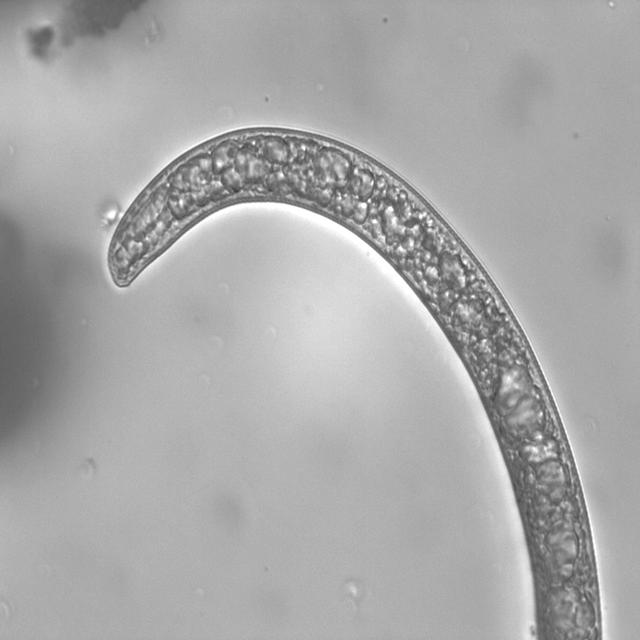Helicotylenchus: (102, 118, 613, 640)
